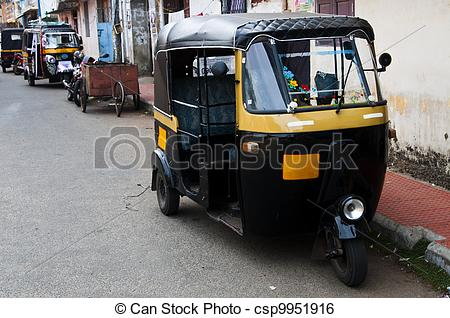autorickshaw: (146, 10, 397, 292), (17, 19, 91, 91)
